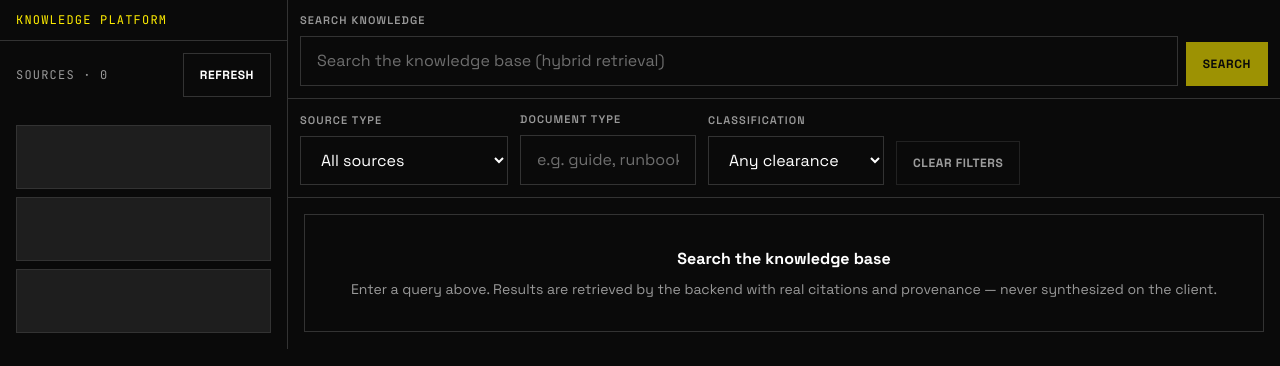
Knowledge Workspace › shows an honest empty state when the backend returns no results
This screenshot has width=1280, height=366.
Type "nothing" into the field labelled "Knowledge search" at x=739, y=61, box [300, 36, 1178, 86]
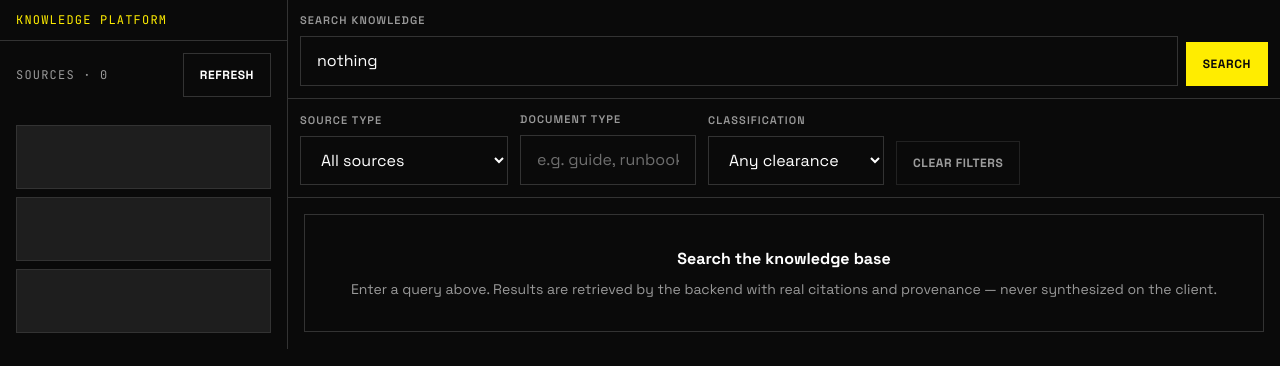
Click the button "Search" at x=1227, y=64, box [1186, 42, 1268, 86]
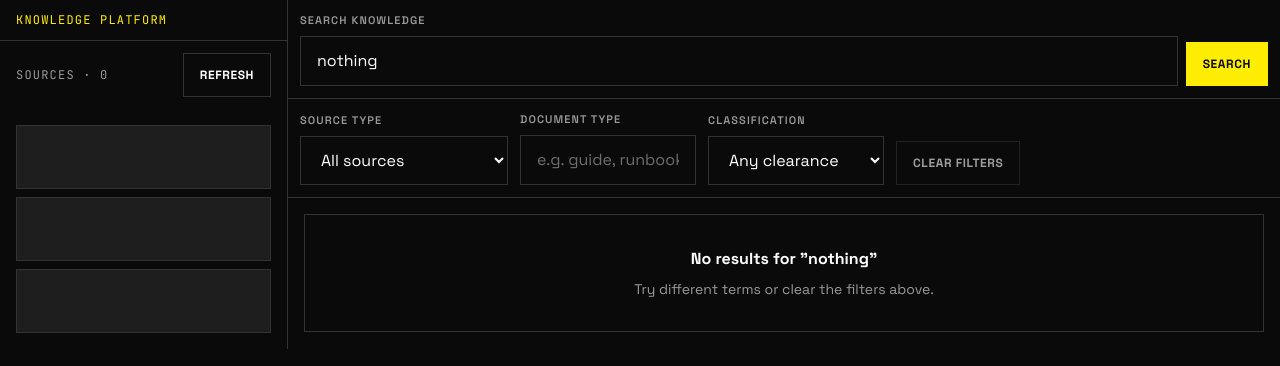
Now the text "No results for \"nothing\"" is shown, box [691, 248, 877, 269]
